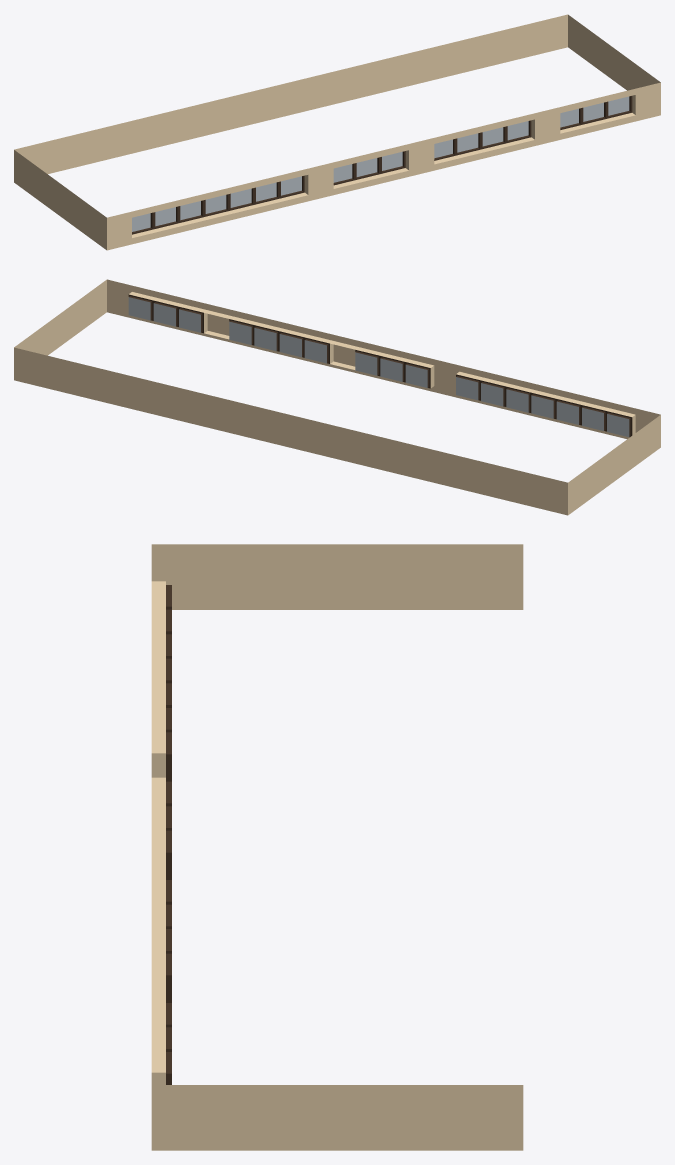
Rendered from fbx_building_3_floor2.fbx.
3 views of the same model, one above another, from view 1: azimuth 30°, elevation 25°; view 2: azimuth 150°, elevation 25°; view 3: azimuth 270°, elevation 25° (orthographic). The views are drawn at different scales.
Visible parts, largest first — view 1: fbx_building_3_floor2; view 2: fbx_building_3_floor2; view 3: fbx_building_3_floor2.
Part boxes in pixels (<box>): fbx_building_3_floor2: <box>14,14,660,250</box>; fbx_building_3_floor2: <box>14,279,660,515</box>; fbx_building_3_floor2: <box>151,544,523,1150</box>.
Size of the model in its own units: 16.72 by 0.9479 by 4.86.
Materials: 2 (1 with a texture image).
